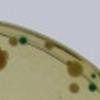Blue_green: (86, 82, 98, 94), (87, 70, 97, 80), (19, 35, 28, 46)
brown: (64, 60, 82, 78), (0, 44, 10, 74), (67, 82, 81, 97), (44, 38, 56, 52), (8, 36, 18, 48)
